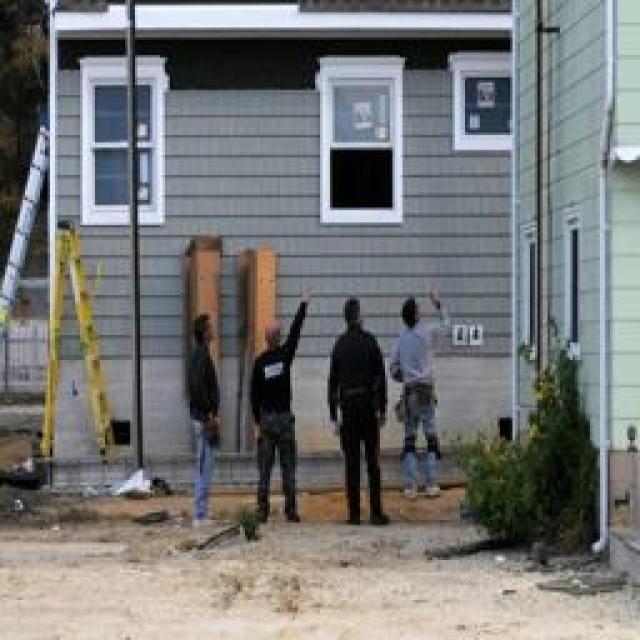Helmet: (327, 325, 405, 463), (390, 322, 464, 430), (175, 348, 239, 457), (250, 348, 316, 452), (326, 287, 384, 344), (392, 272, 437, 340), (185, 303, 229, 362), (255, 316, 299, 360)
